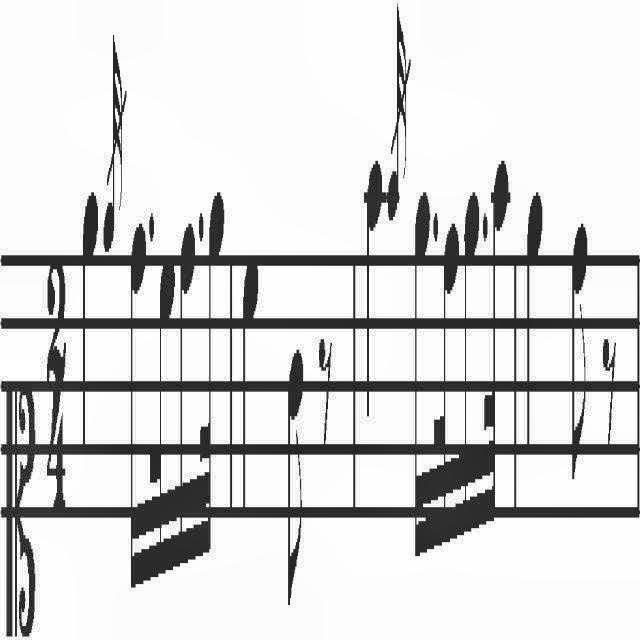Eighth-note: (570, 216, 590, 488), (286, 345, 306, 615)
Eighth-rest: (318, 332, 332, 448), (602, 332, 616, 446)
Quarter-note: (524, 186, 544, 454), (365, 152, 383, 428), (241, 253, 259, 523), (81, 189, 99, 456)
Sixteenth-note: (412, 188, 432, 560), (460, 185, 480, 547), (179, 218, 197, 574), (130, 218, 146, 602)
